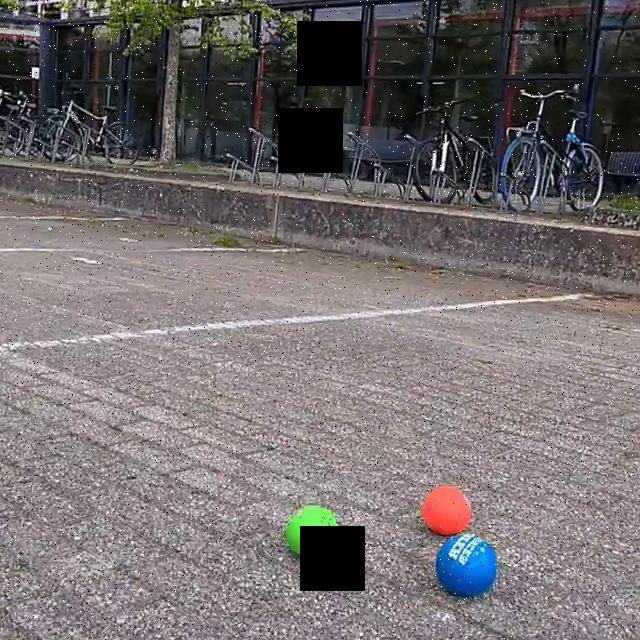ball: (432, 534, 500, 600), (284, 504, 339, 563), (418, 480, 473, 536)
